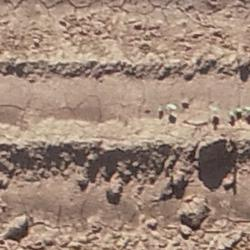cotton: (236, 105, 248, 113), (212, 105, 221, 114), (169, 103, 177, 110)
